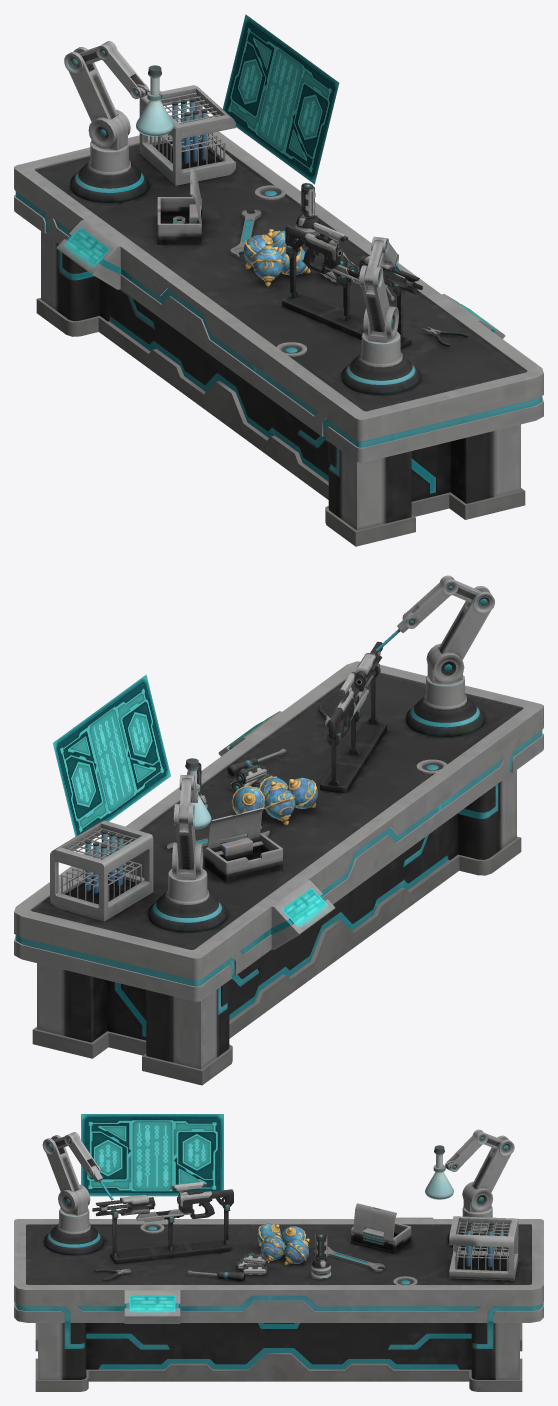
File: SM_WorkBenchAncient_9cd178.glb
The picture shows the model from 3 angles, top to bottom: view 1: azimuth 30°, elevation 25°; view 2: azimuth 150°, elevation 25°; view 3: azimuth 270°, elevation 25°; orthographic projection. The views are drawn at different scales.
Size of the model in its own units: 1.8 by 1.95 by 4.4.
3 materials, 3 textured.
